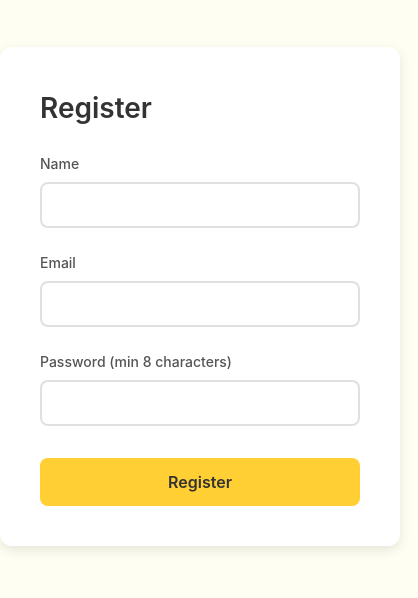
Test: Auth Flow › Registration › should show error on registration failure
Type "Test User" into the field labelled "Name".
click(200, 204); type("Test User")  # box [40,182,360,228]
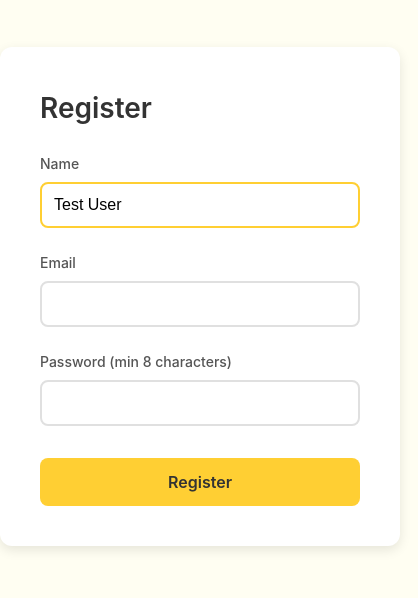
Type "existing@example.com" into the field labelled "Email".
click(200, 304); type("existing@example.com")  # box [40,280,360,326]
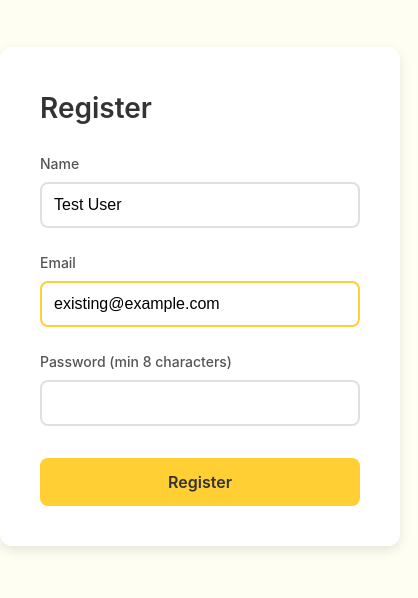
Type "password123" into the password field labelled "Password (min 8 characters)".
click(200, 402); type("password123")  # box [40,380,360,426]
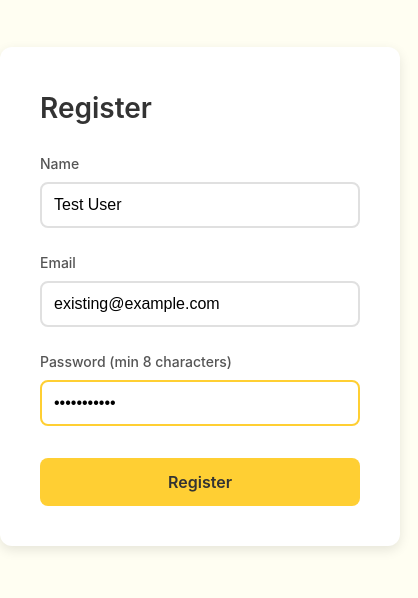
Click the button "Register".
click(200, 482)  # box [40,458,360,506]
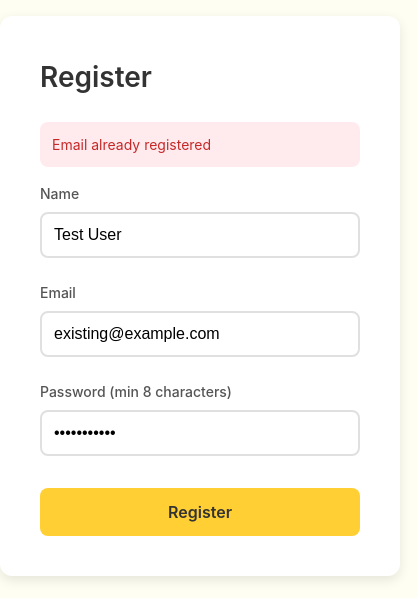
Check: the text "Email already registered" is shown, box [40,122,360,167]
